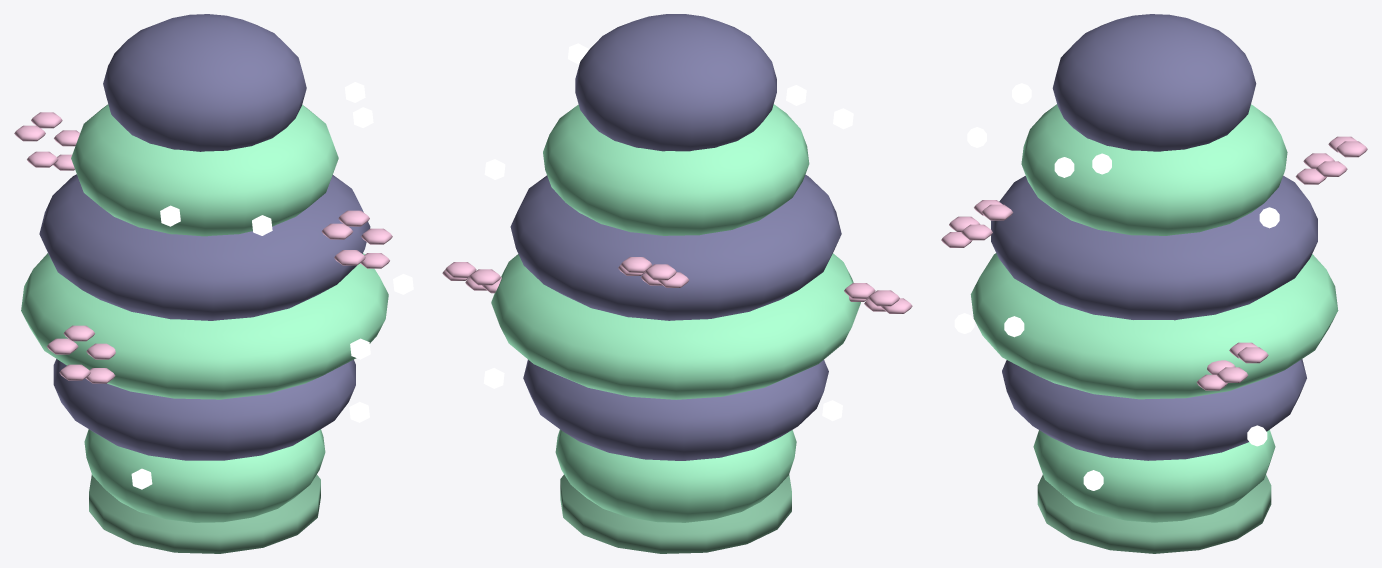
The model's file is egg_enchanted_03.glb.
3 views of the same model, side by side, from view 1: azimuth 30°, elevation 25°; view 2: azimuth 150°, elevation 25°; view 3: azimuth 270°, elevation 25° (orthographic).
Parts seen in each view (by area): view 1: ball; view 2: ball; view 3: ball.
Boxes of the visible parts, bbox=[...] form: ball: bbox=[14, 14, 413, 553]; ball: bbox=[442, 14, 912, 553]; ball: bbox=[941, 14, 1367, 553].
Bounding box in the file's own units: 0.8208 × 0.99 × 0.8038.
